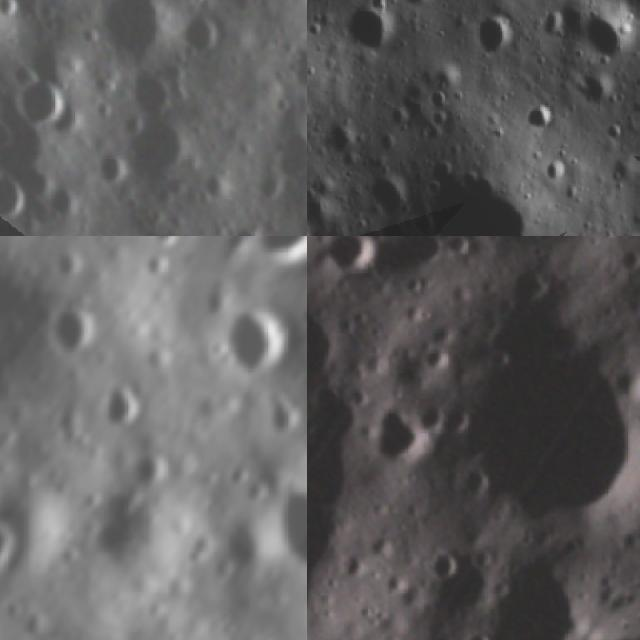crater: (403, 284, 640, 579), (453, 541, 611, 640), (104, 62, 212, 186), (346, 391, 448, 490), (307, 279, 366, 421), (212, 309, 305, 388), (262, 470, 307, 583), (307, 236, 395, 291), (36, 301, 107, 367), (94, 377, 151, 448), (172, 5, 231, 69), (15, 73, 75, 135), (594, 0, 634, 71), (270, 121, 307, 194), (351, 2, 398, 53), (419, 546, 467, 595), (0, 170, 33, 231), (0, 505, 22, 587), (0, 84, 24, 159), (474, 16, 511, 59), (284, 37, 307, 97), (0, 0, 31, 29), (529, 97, 557, 126), (544, 157, 569, 185), (606, 122, 626, 143), (430, 92, 450, 110), (617, 229, 640, 236)
